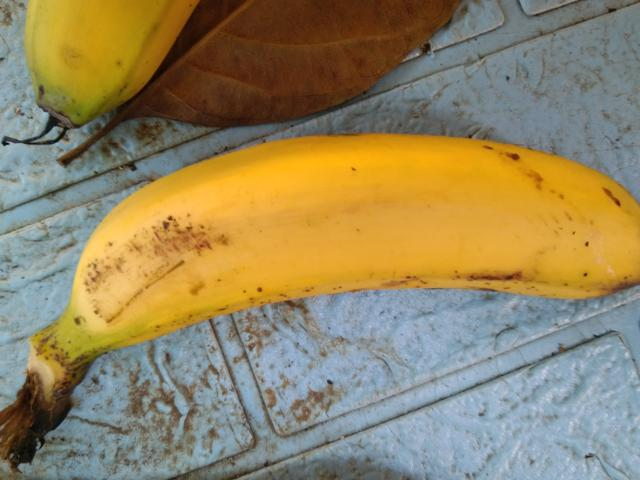ripe: (43, 110, 639, 391)
